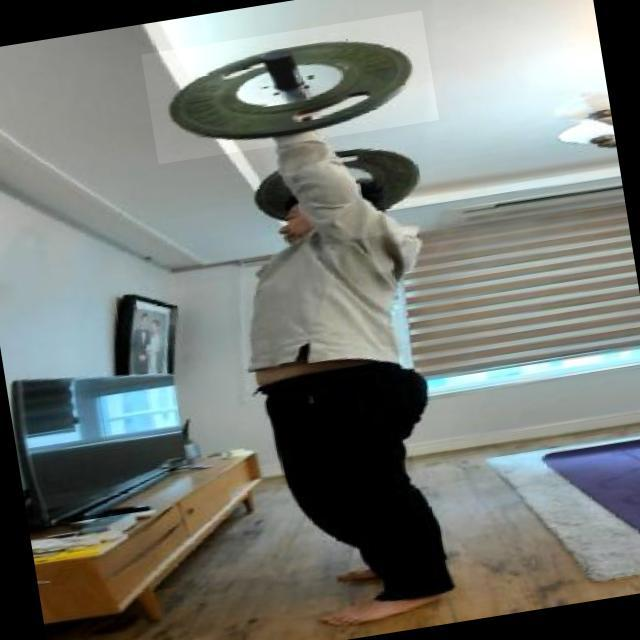barbell: (142, 12, 440, 166)
